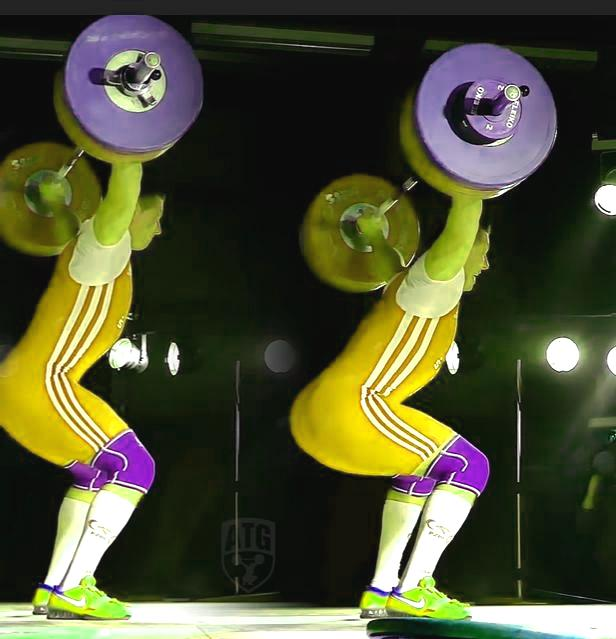Barbell: (141, 48, 168, 73), (501, 80, 522, 107)
